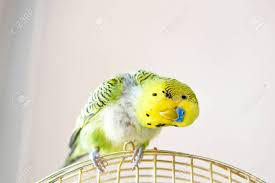budgie: (63, 68, 203, 176)
